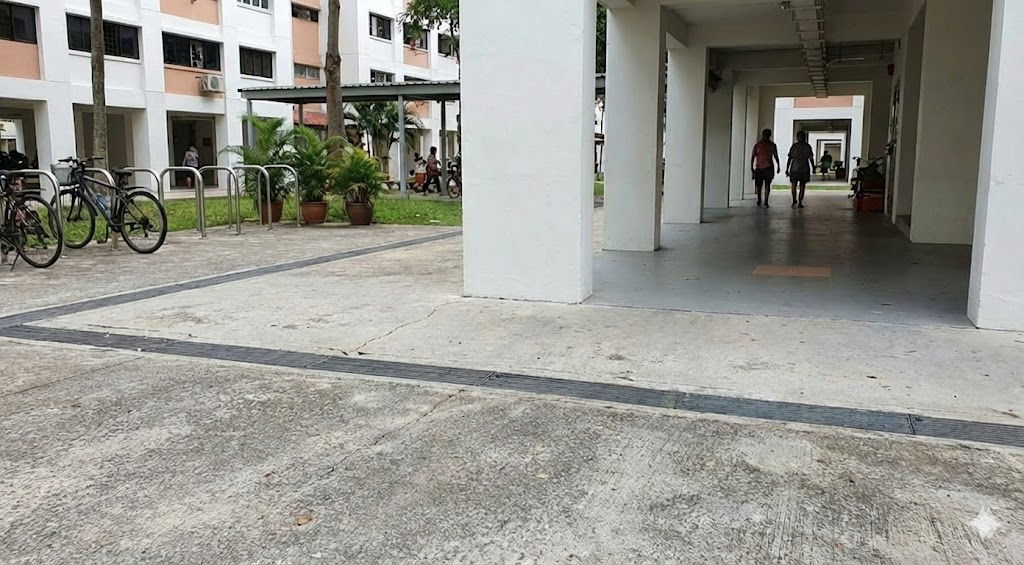vehicle: (51, 156, 167, 253), (0, 171, 62, 267)
